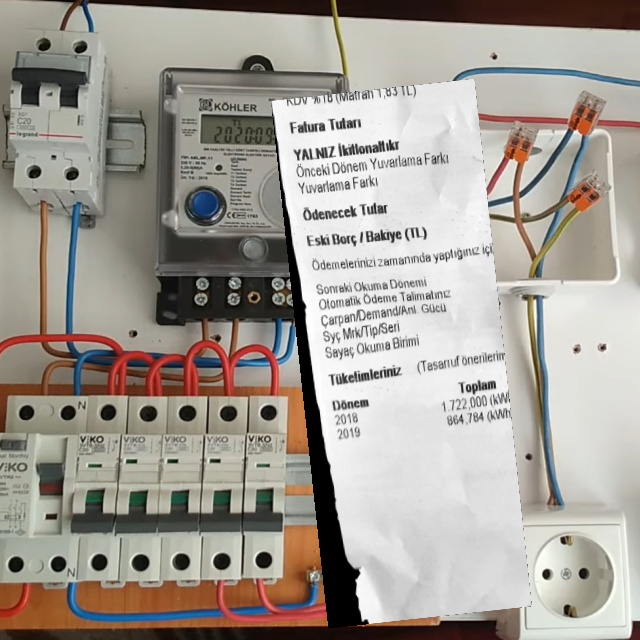electricity-bill: (271, 79, 532, 629)
